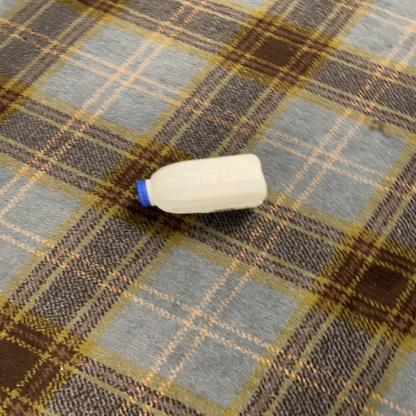trash: (134, 152, 277, 218)
